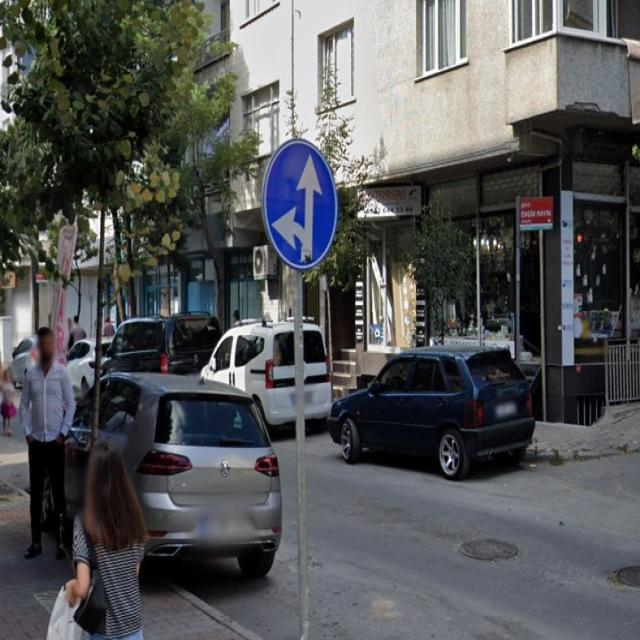ilerisol: (262, 139, 338, 268)
